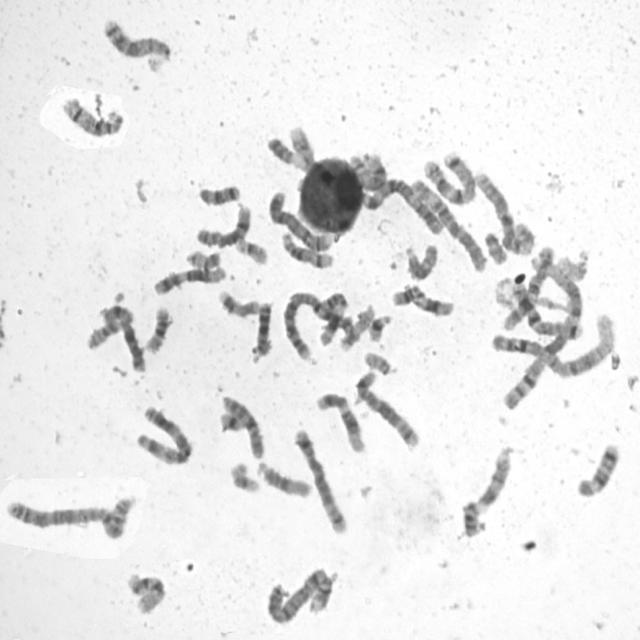A1: (496, 247, 586, 413), (493, 309, 617, 381)
A2: (2, 489, 138, 541), (281, 288, 354, 363)
A3: (356, 172, 446, 237), (130, 400, 194, 467)
B4: (264, 185, 334, 254), (262, 563, 336, 627)
B5: (289, 422, 349, 536), (351, 366, 422, 451)
C10: (500, 240, 554, 333), (218, 390, 266, 460)
C11: (388, 278, 457, 318), (312, 290, 348, 349)
C12: (312, 386, 368, 454), (149, 260, 228, 296)
C6: (407, 172, 489, 274), (472, 166, 537, 257)
C7: (508, 278, 586, 342), (416, 147, 478, 207)
C8: (190, 198, 253, 250), (348, 153, 388, 191)
C9: (457, 440, 515, 539), (263, 124, 319, 172)
D13: (99, 12, 174, 64), (249, 295, 275, 360)
D14: (57, 91, 126, 139), (276, 225, 336, 270)
D15: (252, 455, 314, 500), (401, 238, 440, 281)
E16: (121, 568, 168, 616), (140, 302, 173, 355)
E17: (336, 299, 377, 352), (214, 285, 262, 319)
E18: (572, 437, 621, 499), (194, 178, 243, 207)
F19: (225, 457, 262, 495), (231, 234, 270, 266)
F20: (83, 313, 124, 351), (182, 245, 222, 271)
G21: (364, 309, 393, 344), (215, 406, 245, 434)
G22: (554, 247, 592, 282), (360, 345, 394, 376)
X: (96, 300, 148, 374)
Y: (480, 227, 509, 266)
